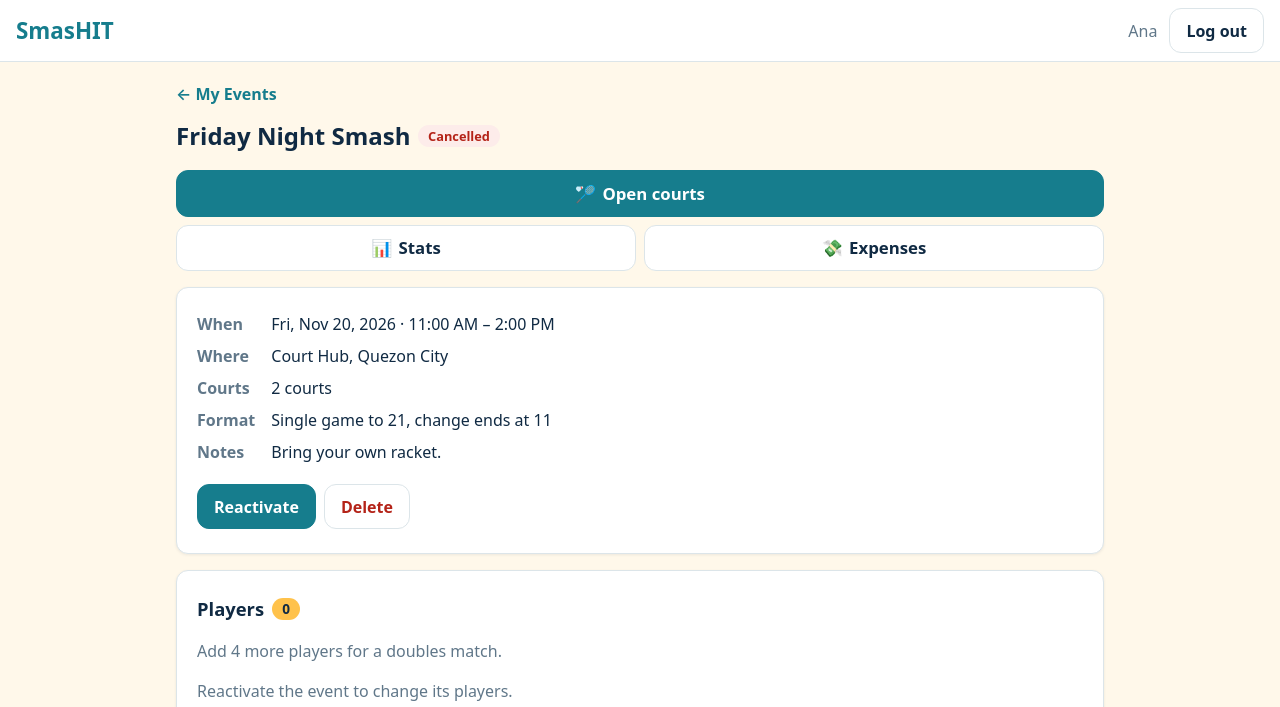
Test: Event page › reactivates a cancelled event without asking
Click the button "Reactivate" at (256, 506), box [197,484,316,529]
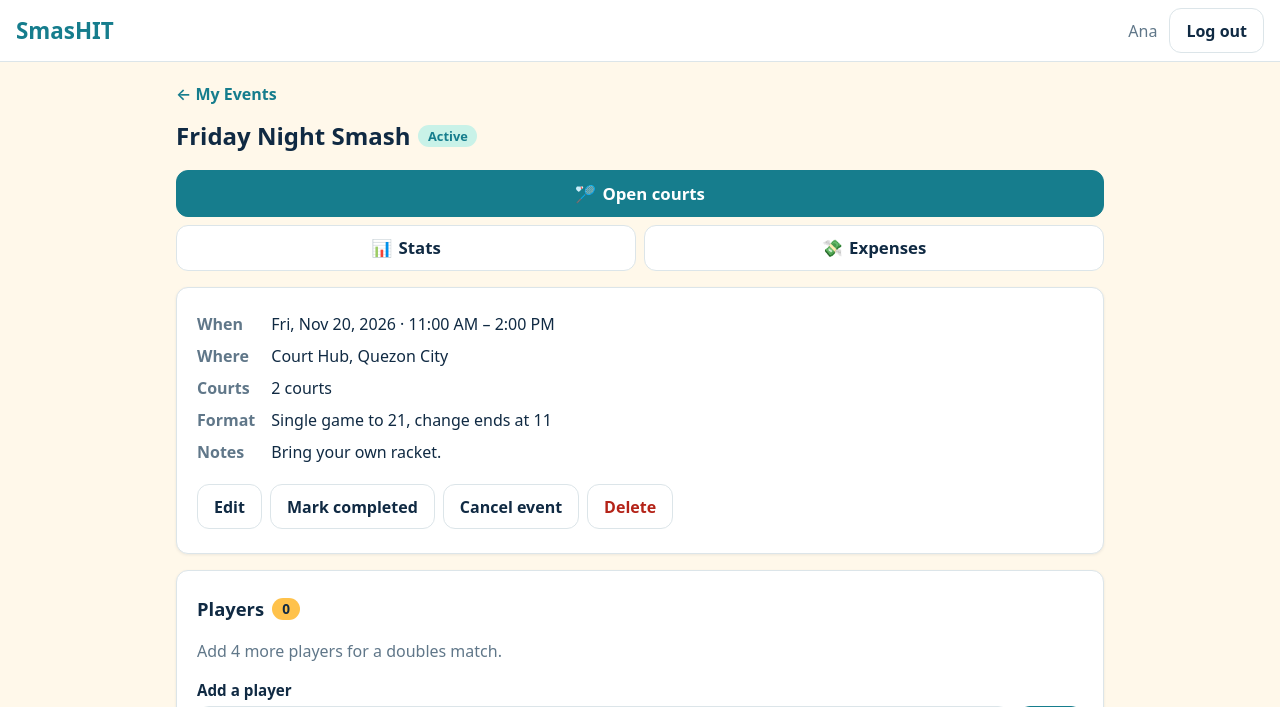
Expected: the link "Edit" is shown, [197,484,262,529]
